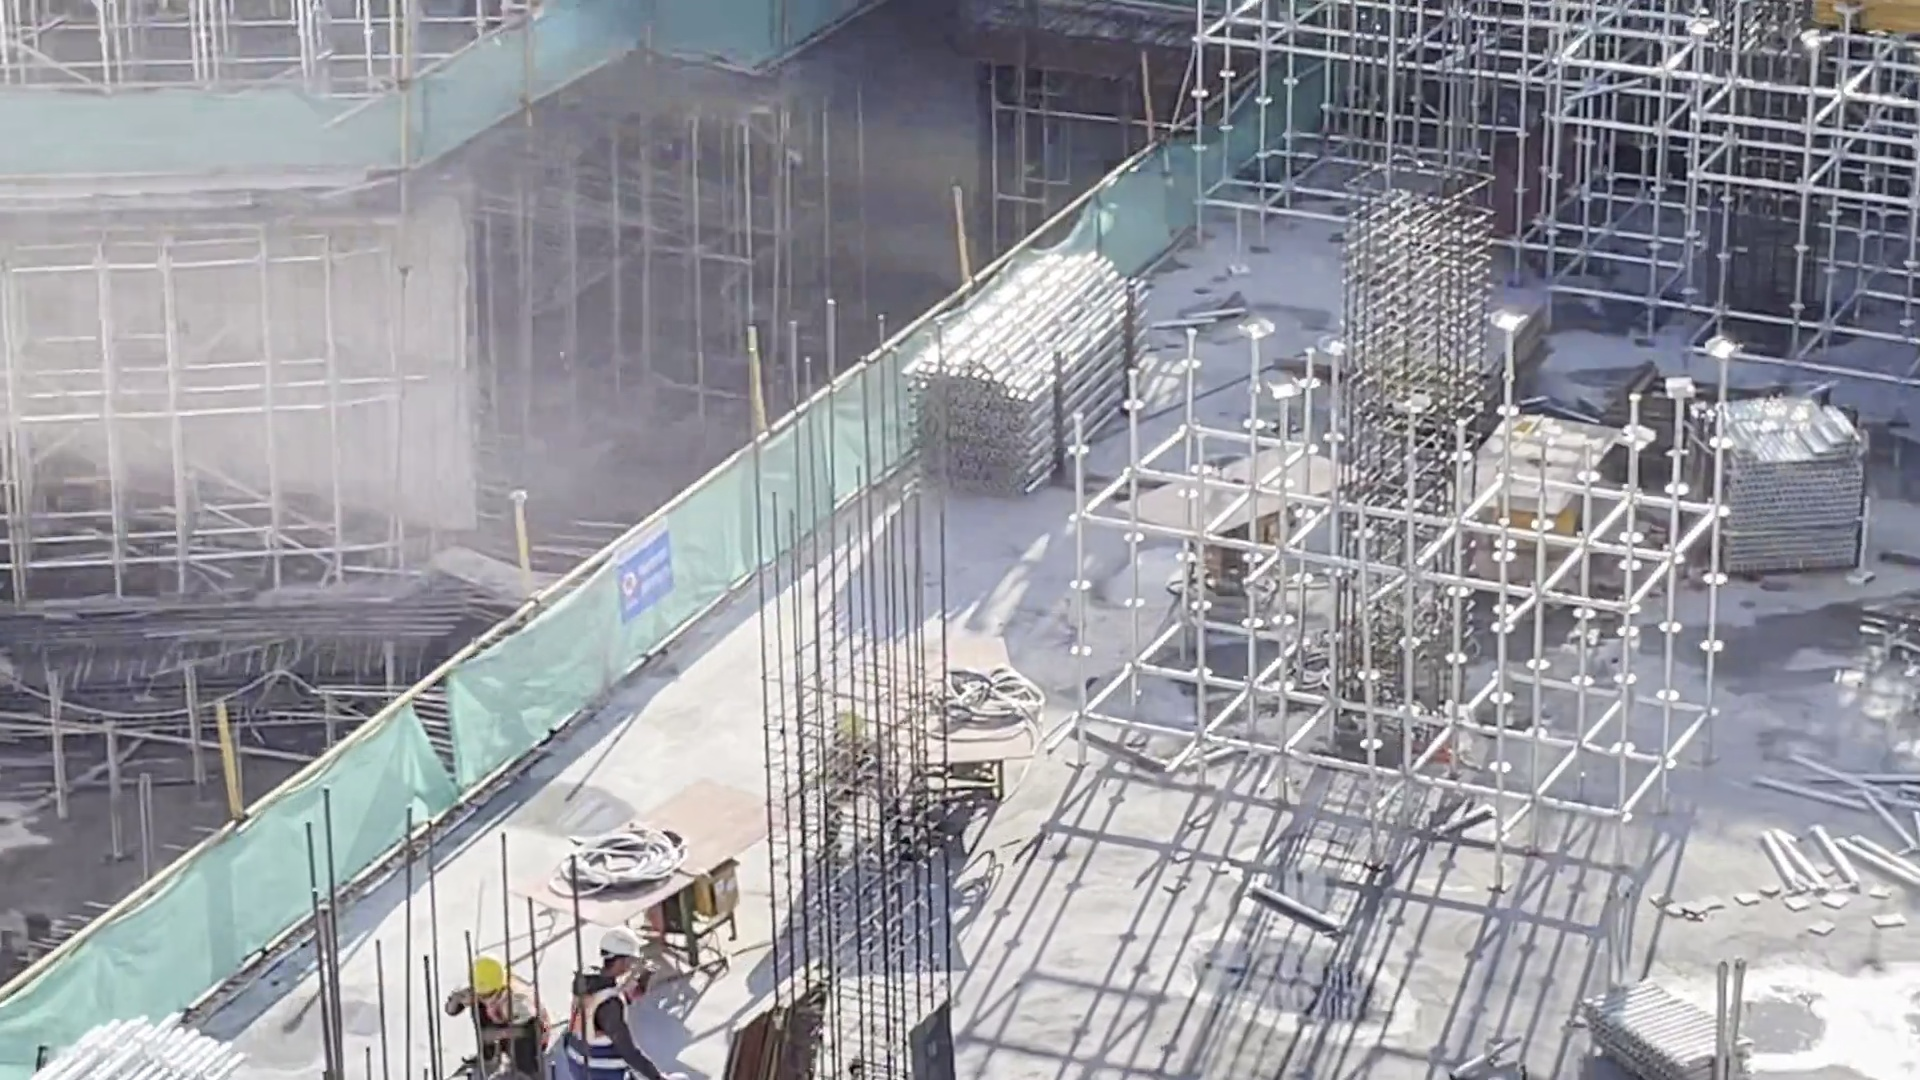board: (719, 988, 831, 1080)
cutter: (532, 779, 814, 963), (1141, 439, 1366, 595), (882, 620, 1056, 820), (1454, 400, 1632, 589)
helmet: (597, 917, 644, 974), (460, 954, 518, 997), (829, 695, 866, 732)
person: (817, 708, 908, 882), (454, 950, 566, 1075), (567, 926, 658, 1080)
scaffold: (906, 245, 1181, 522), (1656, 385, 1887, 573), (33, 985, 224, 1080)
slogan: (599, 500, 686, 627)
vest: (565, 984, 623, 1079), (455, 991, 539, 1049)
